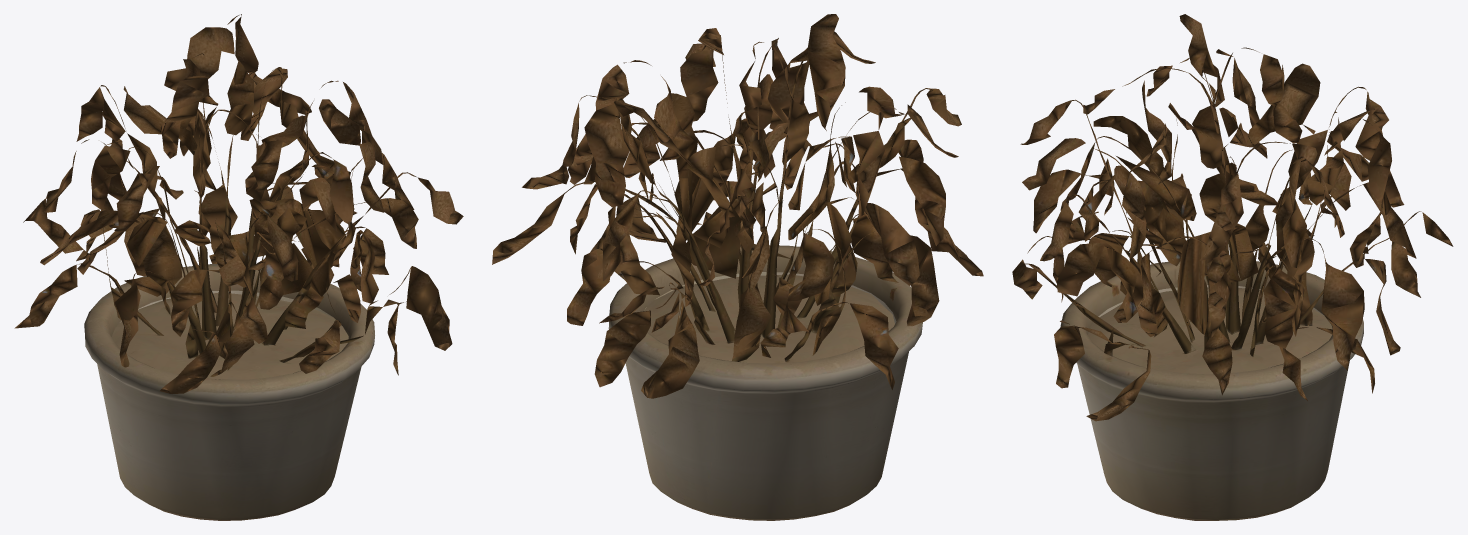
The model's file is Dead flower.fbx.
The picture shows the model from 3 angles, left to right: view 1: azimuth 30°, elevation 25°; view 2: azimuth 150°, elevation 25°; view 3: azimuth 270°, elevation 25°; orthographic projection. The views are drawn at different scales.
Visible parts, largest first — view 1: tripo_node_82e7b3af-4ff2-4a7b-9673-87f8ab04c1c0; view 2: tripo_node_82e7b3af-4ff2-4a7b-9673-87f8ab04c1c0; view 3: tripo_node_82e7b3af-4ff2-4a7b-9673-87f8ab04c1c0.
Part boxes in pixels (box(x1,y1,x2,y2)): tripo_node_82e7b3af-4ff2-4a7b-9673-87f8ab04c1c0: box(14, 14, 463, 520); tripo_node_82e7b3af-4ff2-4a7b-9673-87f8ab04c1c0: box(492, 14, 983, 520); tripo_node_82e7b3af-4ff2-4a7b-9673-87f8ab04c1c0: box(1012, 14, 1453, 520).
Size of the model in its own units: 86.91 by 99.8 by 91.21.
1 material, 1 textured.
